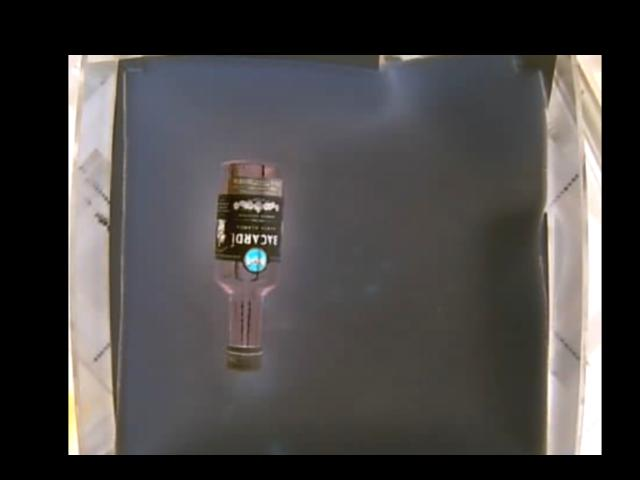Bottle: (209, 160, 285, 372)
